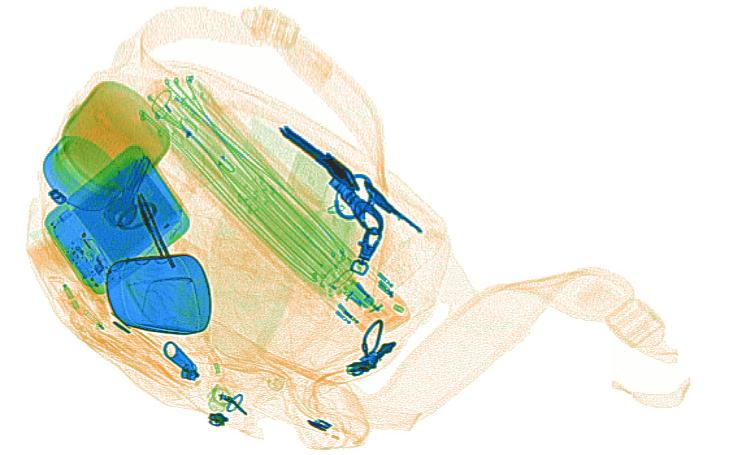plasticBottleWithaNozzle: (26, 231, 108, 336)
